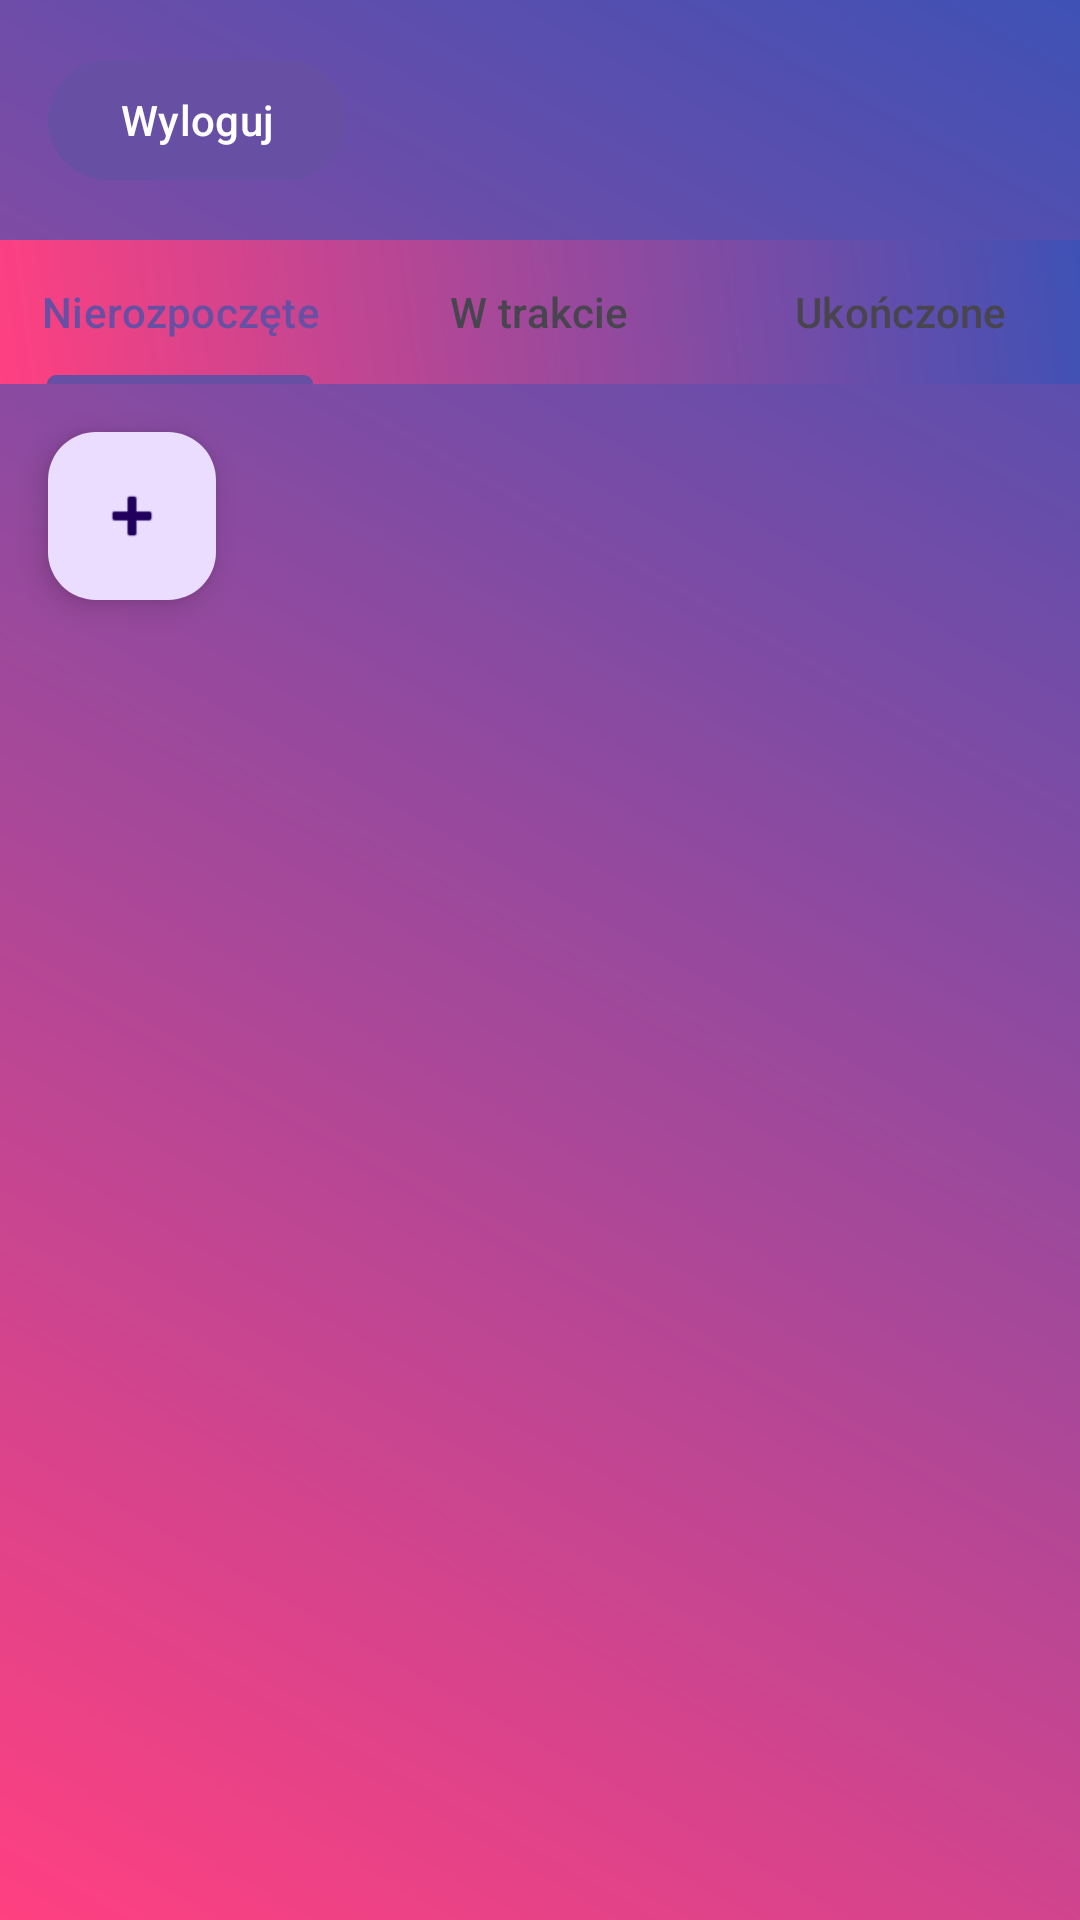

Icon click points for this 1080×1920 phone screenshot, format (x,y):
add: (132,516)
